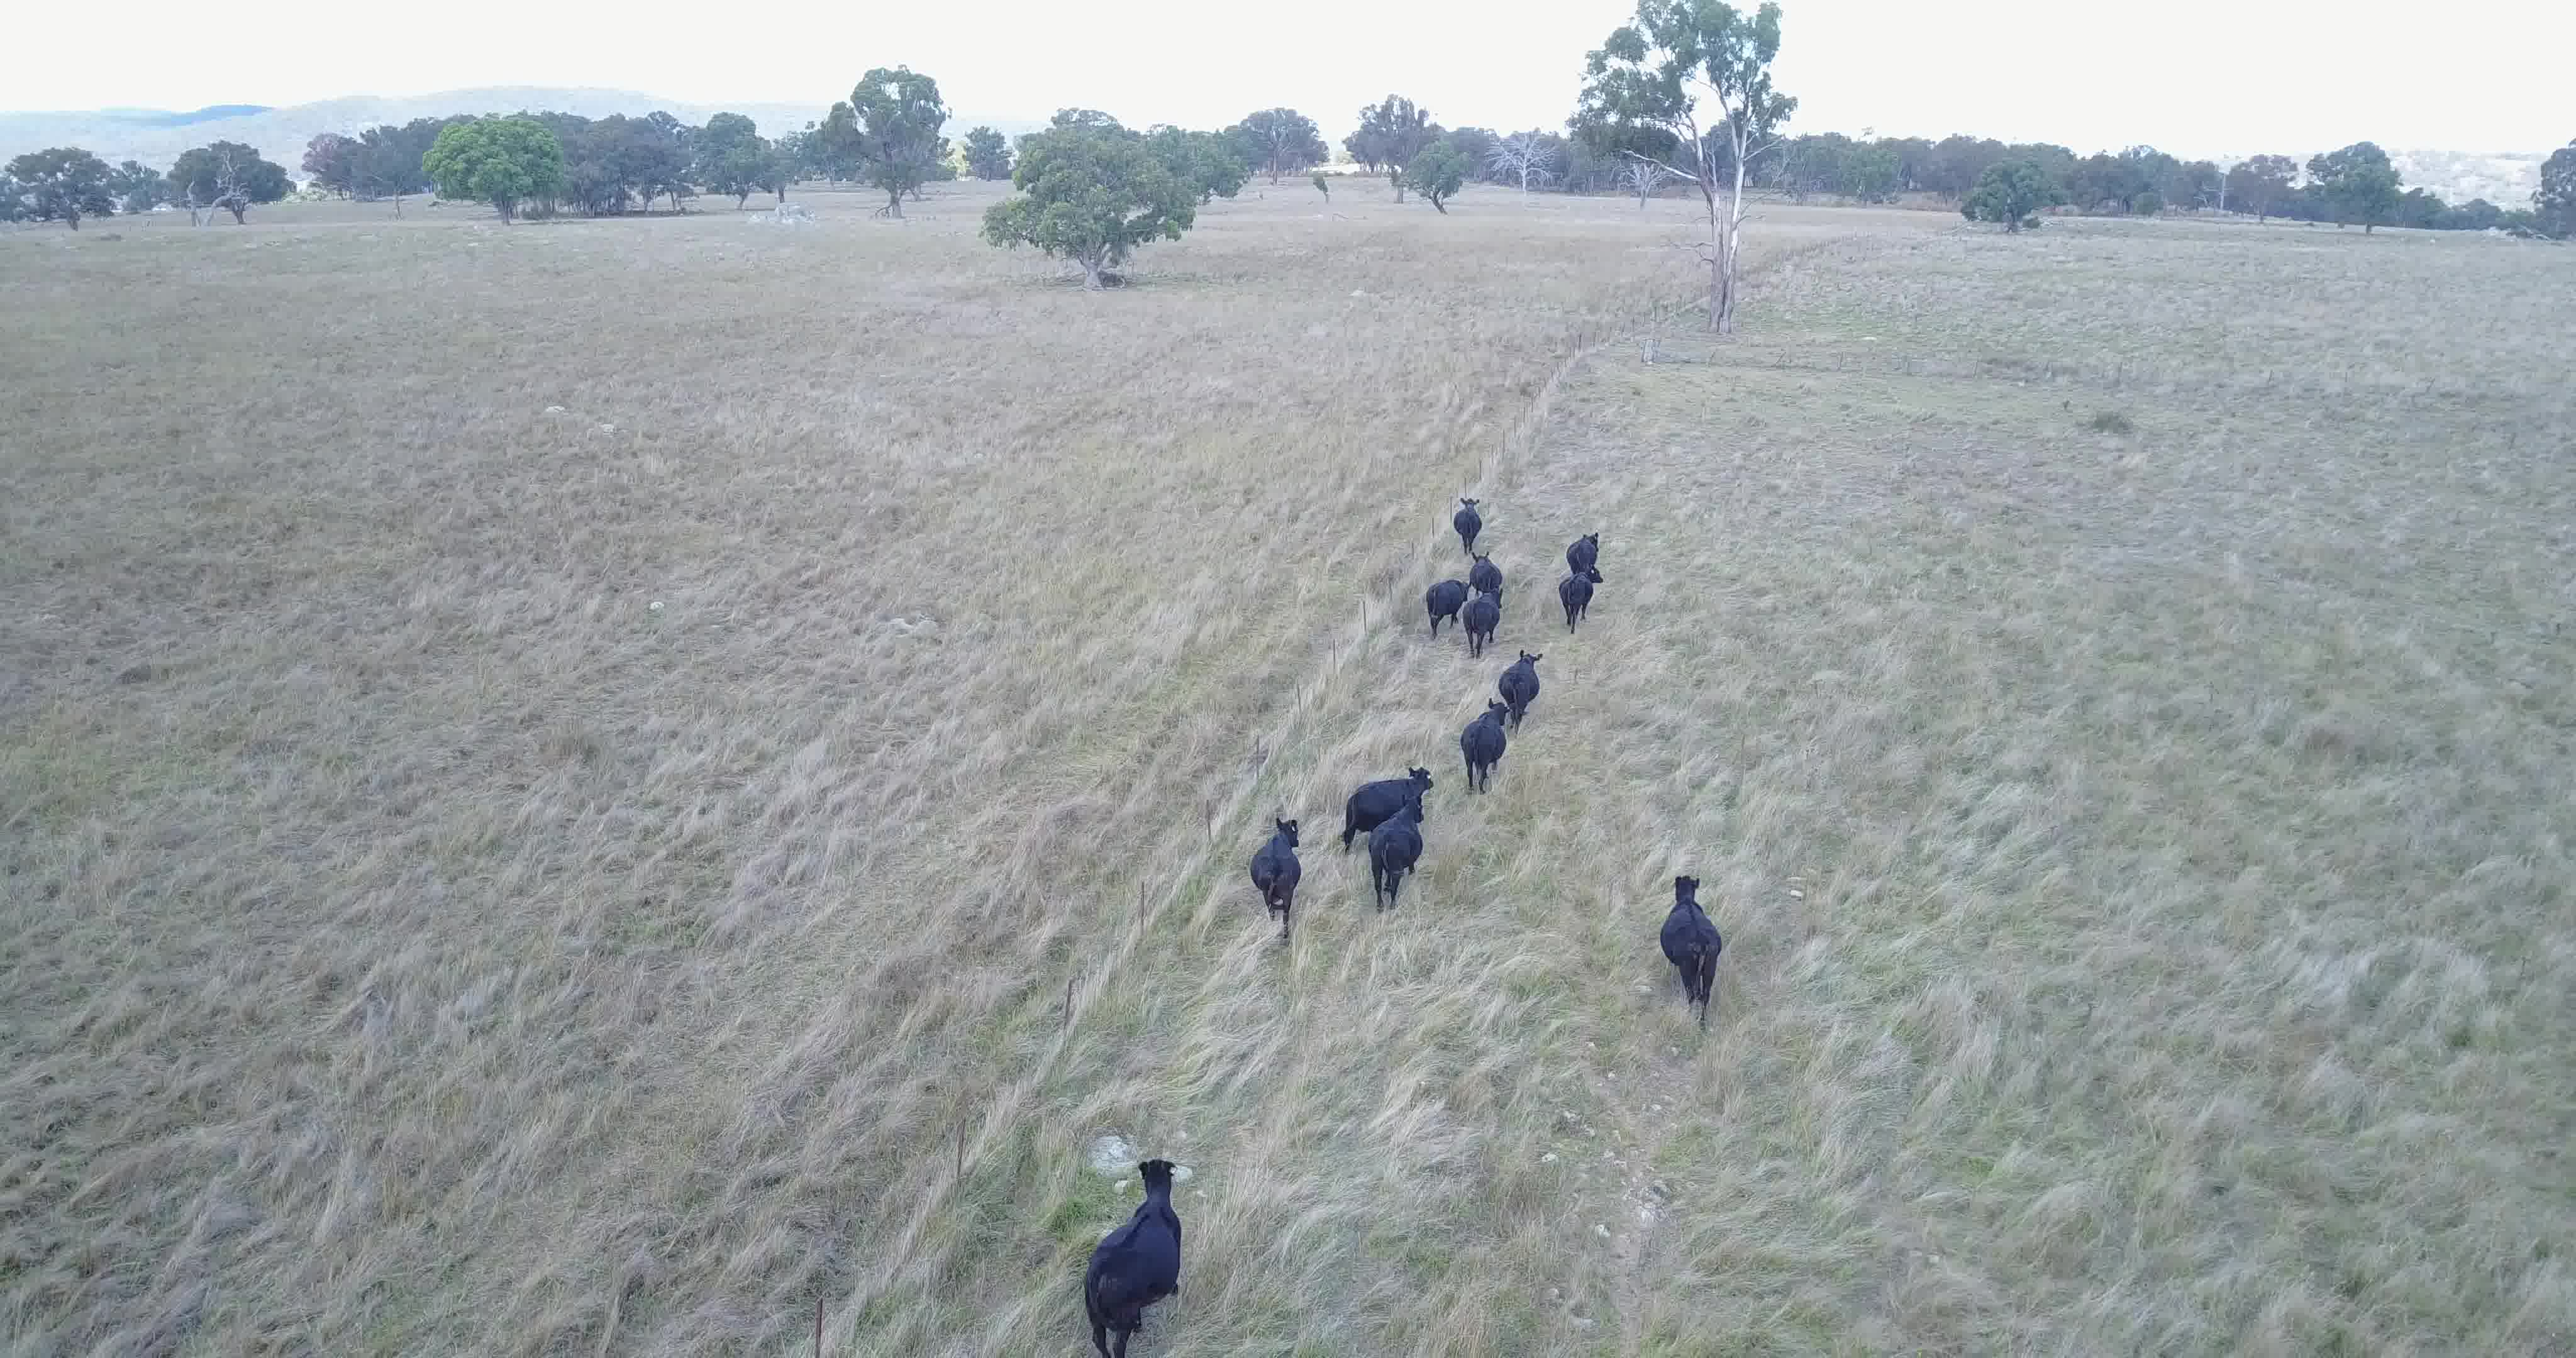cattle: (1072, 1157, 1205, 1358), (1653, 871, 1726, 1022), (1366, 797, 1429, 918), (1247, 814, 1307, 942), (1339, 763, 1436, 830), (1457, 699, 1511, 794), (1496, 646, 1545, 734), (1550, 569, 1605, 634), (1462, 586, 1504, 661), (1423, 576, 1469, 644), (1448, 492, 1486, 554), (1465, 552, 1509, 601), (1562, 528, 1605, 573)
